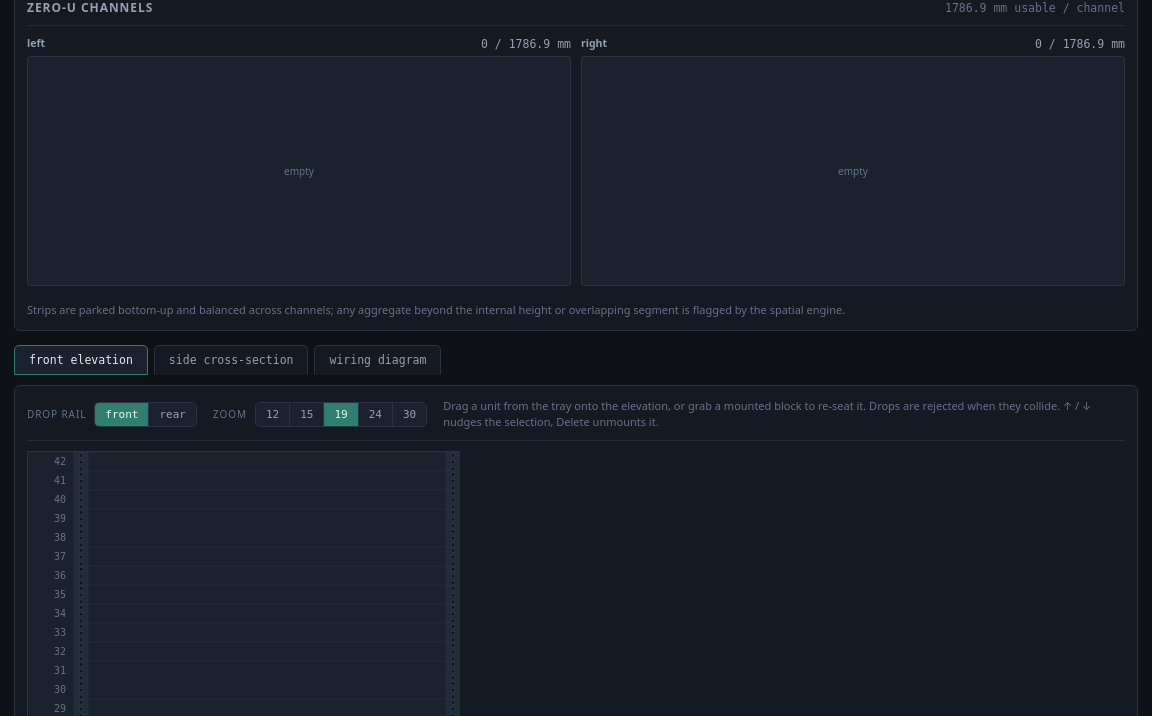
Test: workbench shell › shows the three spatial views and switches between them
This screenshot has width=1152, height=716.
(page scrolled)
Click the tab "side cross-section" at (231, 360), box [154,345,308,375]
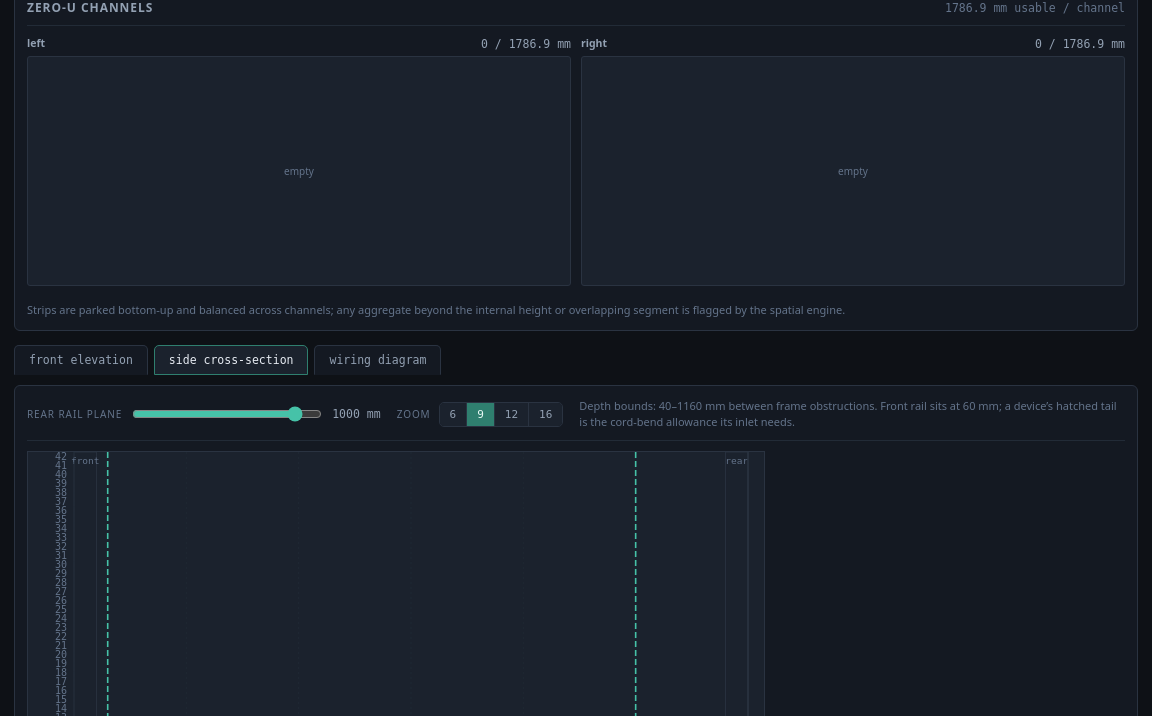
Click the tab "wiring diagram" at (378, 360), box [314,345,441,375]
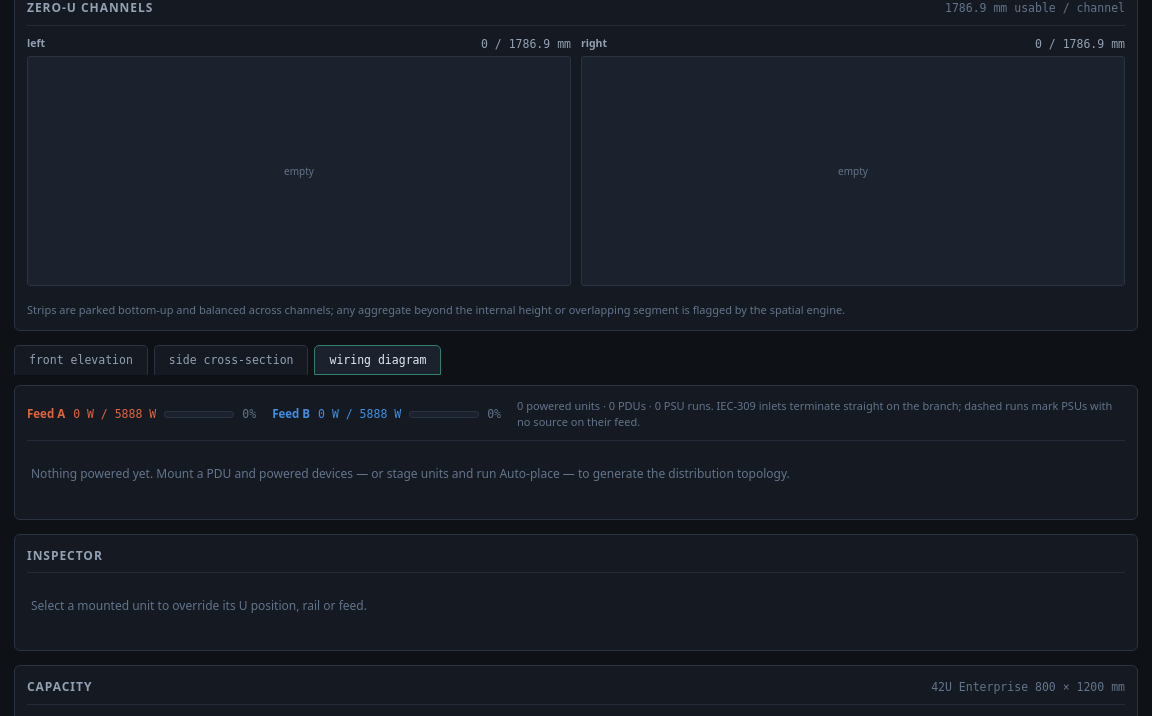
Check: the text "Nothing powered yet" is shown, box [31,465,790,482]
